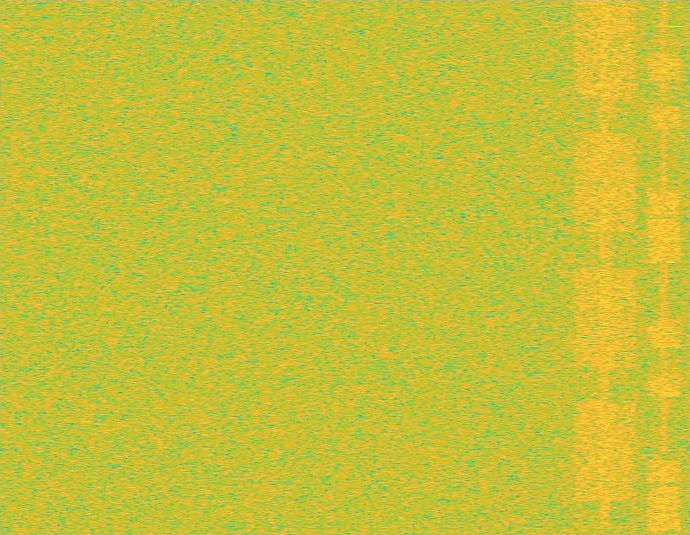5G: (571, 0, 640, 534)
DSSS: (598, 0, 613, 534), (660, 0, 668, 534)
LTE: (647, 0, 681, 534)
Radar: (668, 0, 681, 534)
